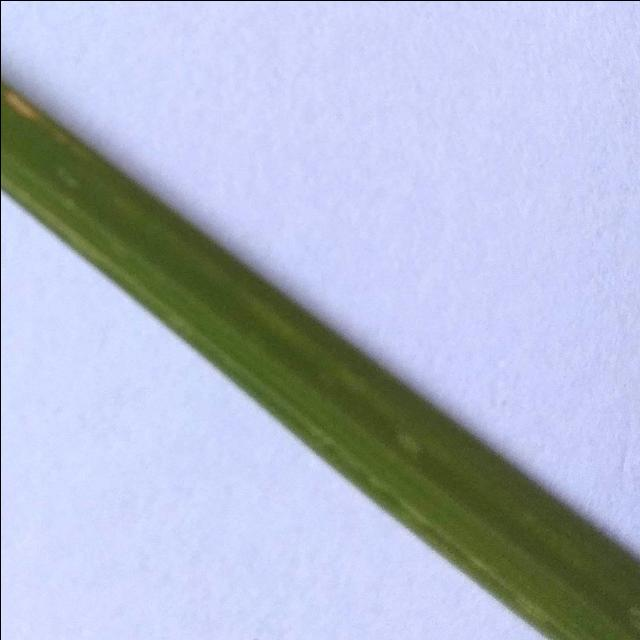Leaf blast: (0, 50, 640, 640)
